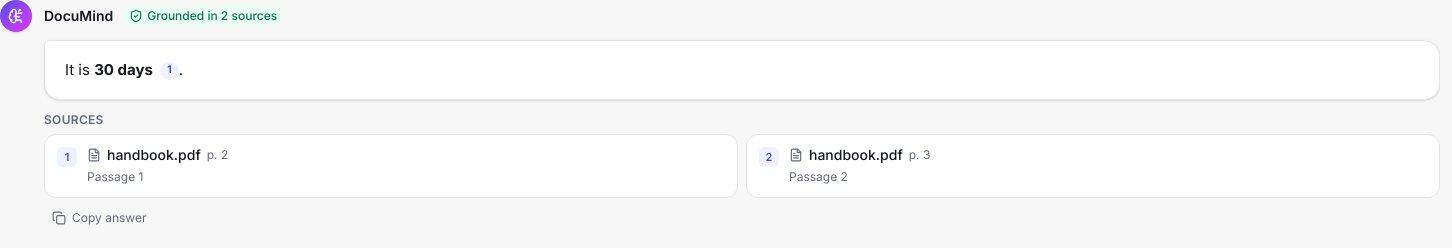
Test: ChatMessage › copies the answer without citation markers or Markdown
Click the button "Copy answer".
click(99, 218)  # box [44,206,154,230]
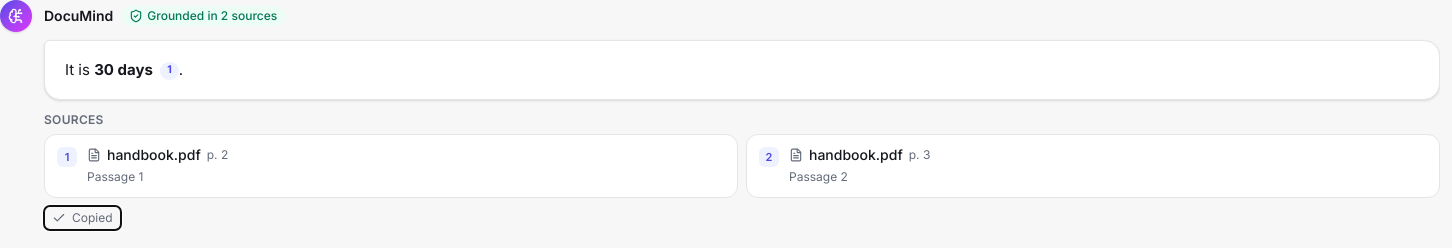
Result: the button "Copied" is shown at [44,206,121,230]
